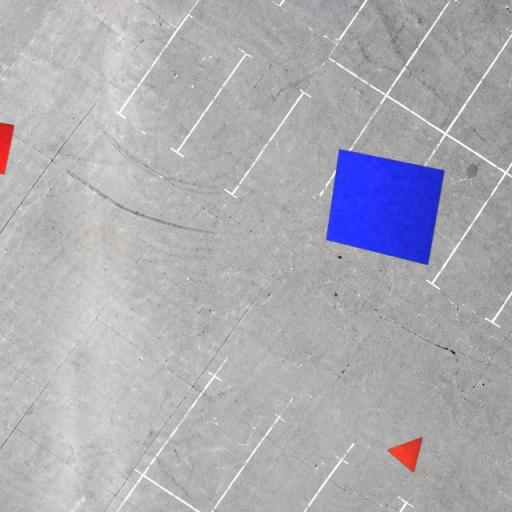BLUE_SQUARE: (326, 148, 446, 266)
